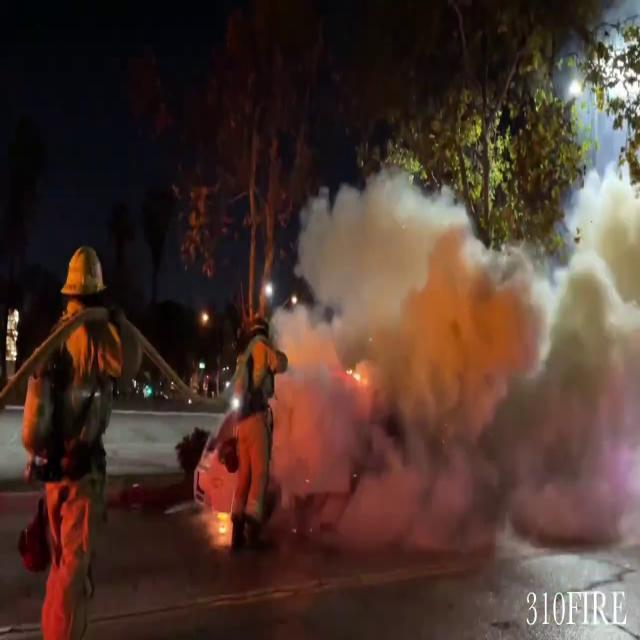Smoke: (279, 150, 640, 558), (510, 108, 640, 560)
